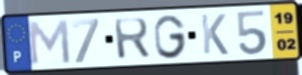5: (237, 9, 270, 57)
7: (70, 18, 101, 64)
G: (152, 13, 189, 61)
K: (199, 12, 231, 57)
M: (24, 18, 73, 66)
R: (111, 16, 152, 61)
